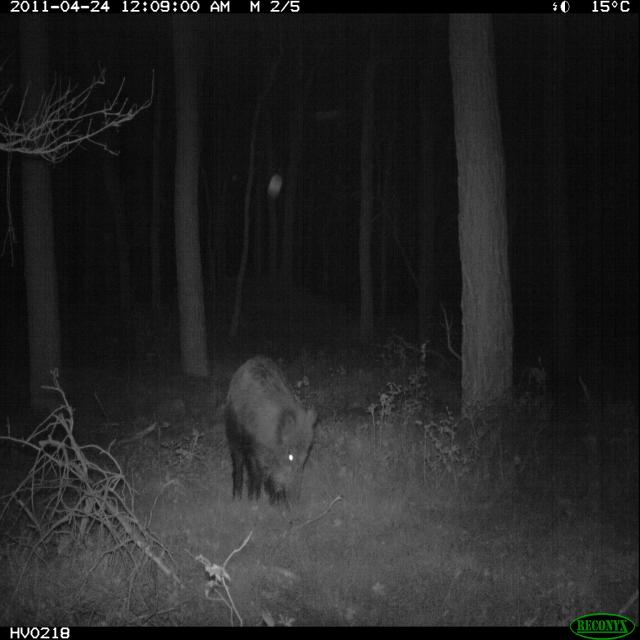boar: (212, 334, 328, 514)
